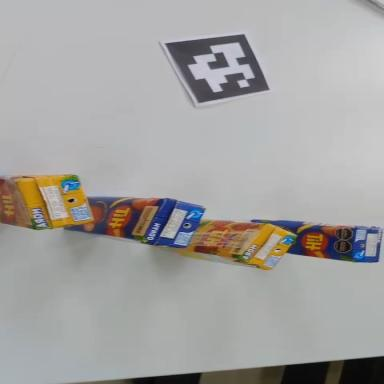HIT-MANGO: (66, 198, 204, 248), (250, 218, 382, 264)
HIT-MORA: (179, 220, 296, 271), (0, 173, 93, 232)
cara_F: (64, 196, 167, 242), (249, 220, 357, 262), (175, 218, 268, 260), (0, 179, 34, 230)
